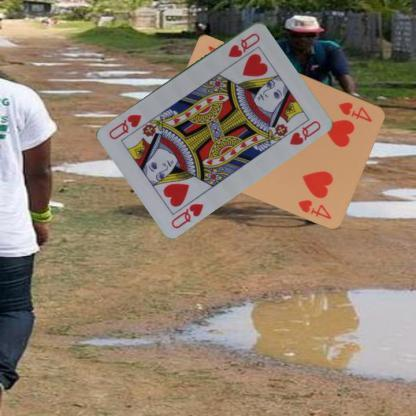4h: (336, 98, 374, 124)
Qh: (168, 200, 205, 230), (225, 30, 261, 59)
